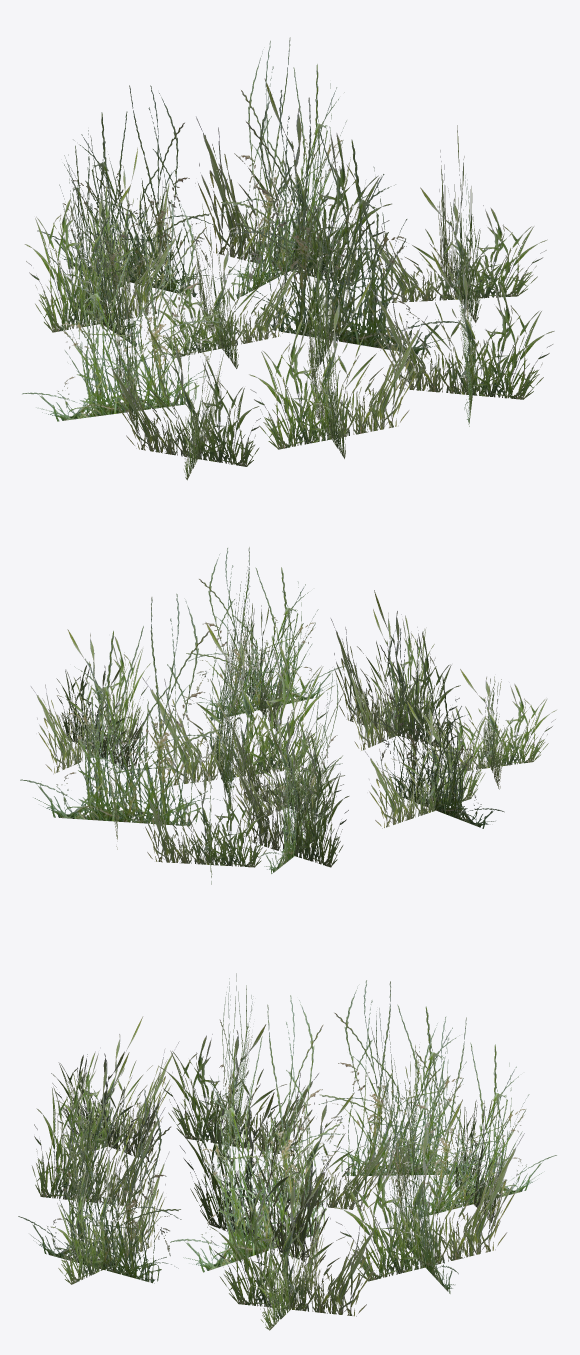
File: MountainGrass3A.fbx
3 renders of one model, top to bottom at view 1: azimuth 30°, elevation 25°; view 2: azimuth 150°, elevation 25°; view 3: azimuth 270°, elevation 25°, orthographic. The views are drawn at different scales.
Visible parts, largest first — view 1: MountainGrass3A; view 2: MountainGrass3A; view 3: MountainGrass3A.
Part boxes in pixels (x1,y1,x2,y2): MountainGrass3A: (22,37,554,480); MountainGrass3A: (20,547,556,884); MountainGrass3A: (18,973,556,1330).
Size of the model in its own units: 276 by 138 by 267.
